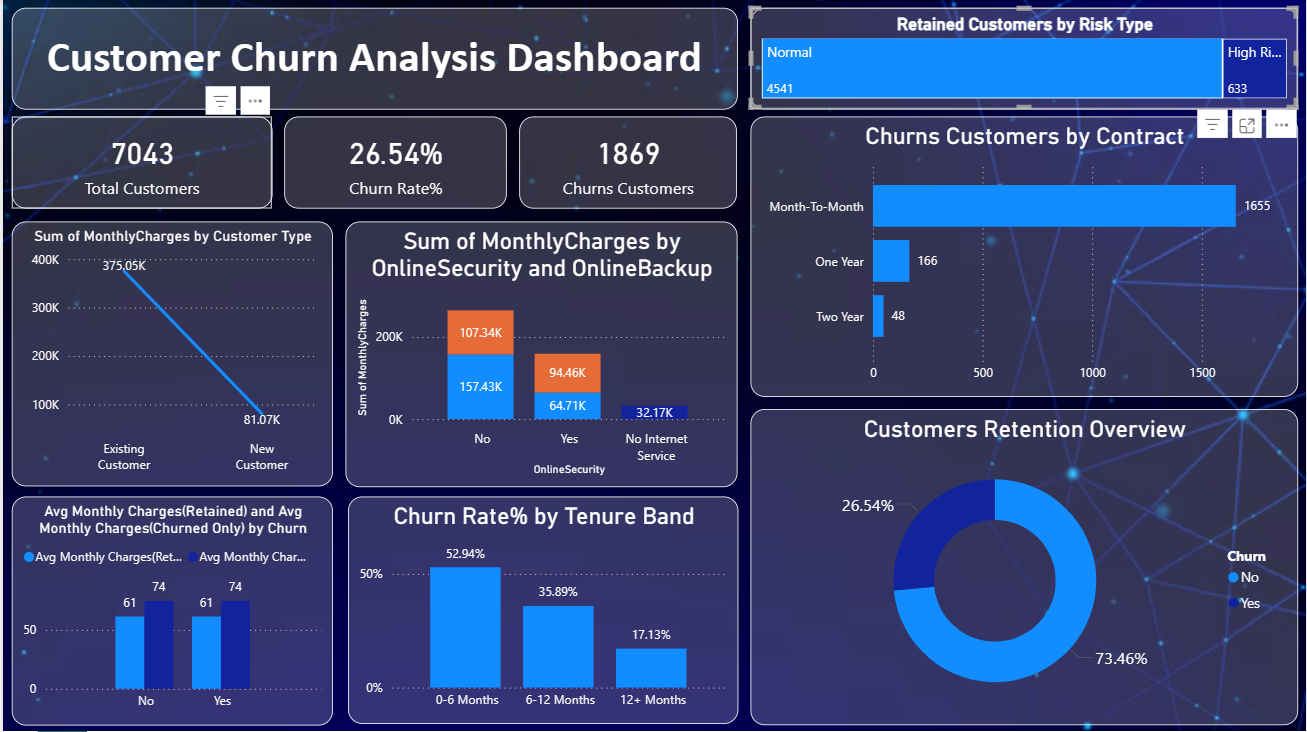

This screenshot's page, from the dashboard's own definition file:
{"tool":"powerbi","page":{"name":"Page 1","canvas":[1280,720],"ordinal":0},"visuals":[{"type":"textbox","box":[8,8,712.5,99.7],"z":0},{"type":"treemap","fields":{"Values":["Calculated Measure.Retained Customers"],"Group":["WA_Fn-UseC_-Telco-Customer-Churn.Risk Type"]},"box":[733.5,8,537.2,99.7],"z":1000},{"type":"card","fields":{"Values":["Calculated Measure.Total Customers"]},"box":[8,115.8,255.7,90.1],"z":2000},{"type":"card","fields":{"Values":["Calculated Measure.Churn Rate%"]},"box":[276.7,115.8,218.7,90.1],"z":3000},{"type":"card","fields":{"Values":["Calculated Measure.Churns Customers"]},"box":[506.7,115.8,213.9,90.1],"z":4000},{"type":"donutChart","title":"Customers Retention Overview","fields":{"Y":["Calculated Measure.Total Customers"],"Category":["WA_Fn-UseC_-Telco-Customer-Churn.Churn"]},"box":[733.5,402.1,537.2,310.4],"z":5000},{"type":"barChart","fields":{"Category":["WA_Fn-UseC_-Telco-Customer-Churn.Contract"],"Y":["Calculated Measure.Churns Customers"]},"box":[733.5,115.8,537.2,275],"z":5001},{"type":"columnChart","fields":{"Category":["WA_Fn-UseC_-Telco-Customer-Churn.OnlineSecurity"],"Y":["Sum(WA_Fn-UseC_-Telco-Customer-Churn.MonthlyCharges)"],"Series":["WA_Fn-UseC_-Telco-Customer-Churn.OnlineBackup"]},"box":[336.2,218.7,384.4,260.6],"z":5002},{"type":"columnChart","fields":{"Y":["Calculated Measure.Churn Rate%"],"Category":["WA_Fn-UseC_-Telco-Customer-Churn.Tenure Band"]},"box":[338.3,488.3,383.3,223.3],"z":5003},{"type":"clusteredColumnChart","fields":{"Y":["Calculated Measure.Avg Monthly Charges(Retained)","Calculated Measure.Avg Monthly Charges(Churned Only)"],"Category":["WA_Fn-UseC_-Telco-Customer-Churn.Churn"]},"box":[8.6,488.3,315.3,224.5],"z":5004},{"type":"lineChart","fields":{"Category":["WA_Fn-UseC_-Telco-Customer-Churn.Customer Type"],"Y":["Sum(WA_Fn-UseC_-Telco-Customer-Churn.MonthlyCharges)"]},"box":[8.6,218.4,315.3,260.1],"z":5005}]}

Visuals, with their boxes in screenshot pixels (x1, y1, x2, y2), scaled from the page's 1280x720 canvas onto the 1307x732 screenshot:
textbox: {"x1": 8, "y1": 8, "x2": 736, "y2": 109}
treemap - Calculated Measure.Retained Customers x WA_Fn-UseC_-Telco-Customer-Churn.Risk Type: {"x1": 749, "y1": 8, "x2": 1298, "y2": 109}
card - Calculated Measure.Total Customers: {"x1": 8, "y1": 118, "x2": 269, "y2": 209}
card - Calculated Measure.Churn Rate%: {"x1": 283, "y1": 118, "x2": 506, "y2": 209}
card - Calculated Measure.Churns Customers: {"x1": 517, "y1": 118, "x2": 736, "y2": 209}
"Customers Retention Overview" donutChart: {"x1": 749, "y1": 409, "x2": 1298, "y2": 724}
barChart - WA_Fn-UseC_-Telco-Customer-Churn.Contract x Calculated Measure.Churns Customers: {"x1": 749, "y1": 118, "x2": 1298, "y2": 397}
columnChart - WA_Fn-UseC_-Telco-Customer-Churn.OnlineSecurity x Sum(WA_Fn-UseC_-Telco-Customer-Churn.MonthlyCharges): {"x1": 343, "y1": 222, "x2": 736, "y2": 487}
columnChart - Calculated Measure.Churn Rate% x WA_Fn-UseC_-Telco-Customer-Churn.Tenure Band: {"x1": 345, "y1": 496, "x2": 737, "y2": 723}
clusteredColumnChart - Calculated Measure.Avg Monthly Charges(Retained) x Calculated Measure.Avg Monthly Charges(Churned Only): {"x1": 9, "y1": 496, "x2": 331, "y2": 725}
lineChart - WA_Fn-UseC_-Telco-Customer-Churn.Customer Type x Sum(WA_Fn-UseC_-Telco-Customer-Churn.MonthlyCharges): {"x1": 9, "y1": 222, "x2": 331, "y2": 486}
